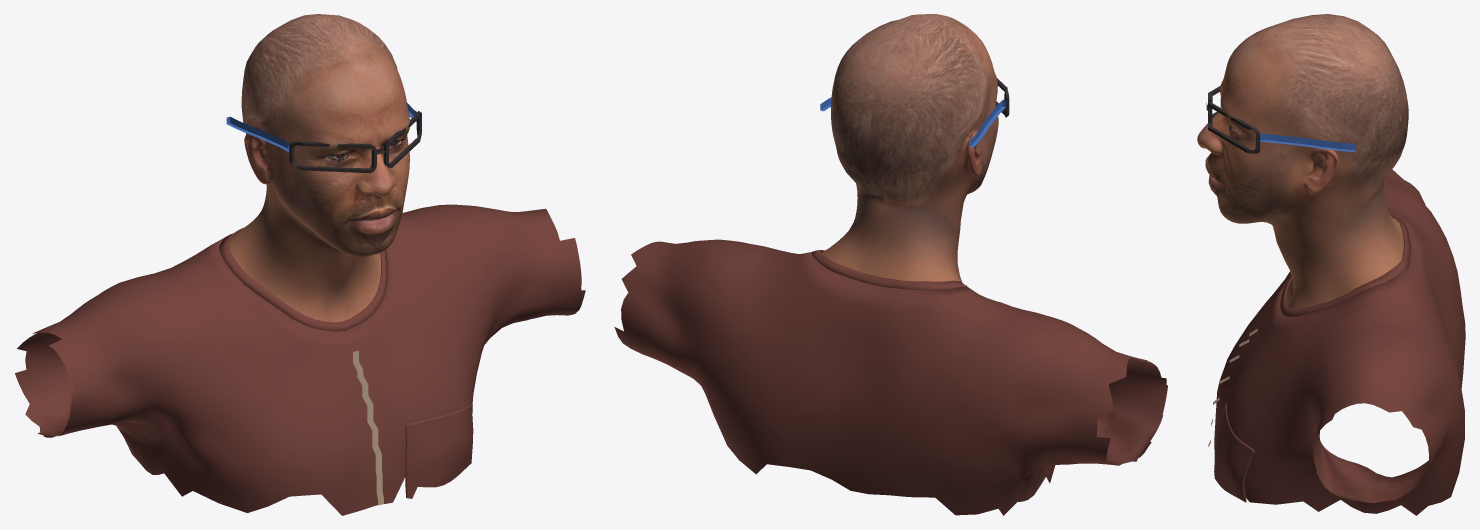
3 views of the same model, side by side, from view 1: azimuth 30°, elevation 25°; view 2: azimuth 150°, elevation 25°; view 3: azimuth 270°, elevation 25° (orthographic). The views are drawn at different scales.
Visible parts, largest first — view 1: outfit, AvatarHead, Glasses, Zip; view 2: outfit, AvatarHead, Glasses; view 3: outfit, AvatarHead, Glasses.
Boxes of the visible parts, bbox=[...] form: outfit: bbox=[15, 204, 585, 515]; AvatarHead: bbox=[229, 14, 409, 322]; Glasses: bbox=[226, 103, 421, 173]; Zip: bbox=[353, 350, 383, 505]; outfit: bbox=[614, 239, 1167, 515]; AvatarHead: bbox=[822, 14, 998, 281]; Glasses: bbox=[820, 78, 1009, 147]; outfit: bbox=[1214, 169, 1465, 515]; AvatarHead: bbox=[1197, 14, 1408, 308]; Glasses: bbox=[1206, 86, 1355, 153].
Size of what is drawn, in the model's own units: 0.5999 by 0.4946 by 0.2766.
Materials: 10 (4 with a texture image).
